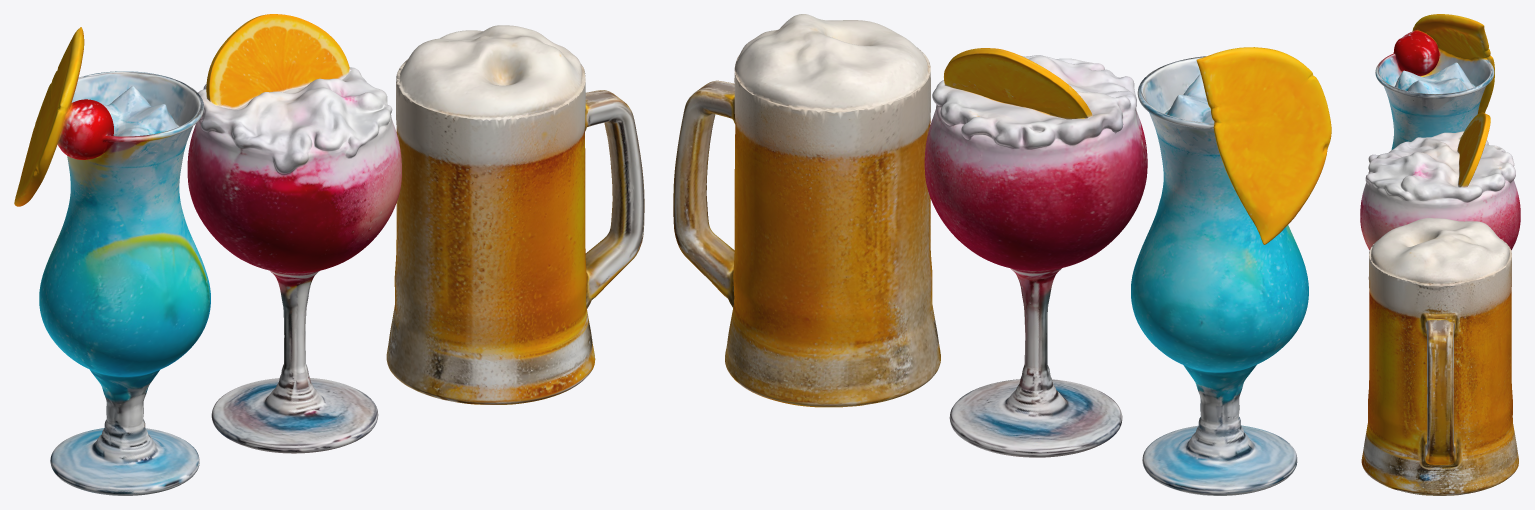
The model's file is menuAR-trio-bebidas-30x20x9cm-AR.glb.
3 views of the same model, side by side, from view 1: azimuth 30°, elevation 25°; view 2: azimuth 150°, elevation 25°; view 3: azimuth 270°, elevation 25° (orthographic). The views are drawn at different scales.
Parts seen in each view (by area): view 1: tripo_node_ba6dc7ec-f5b5-474f-94d5-36ab9a98e3fa; view 2: tripo_node_ba6dc7ec-f5b5-474f-94d5-36ab9a98e3fa; view 3: tripo_node_ba6dc7ec-f5b5-474f-94d5-36ab9a98e3fa.
Boxes of the visible parts, x1=… form: tripo_node_ba6dc7ec-f5b5-474f-94d5-36ab9a98e3fa: x1=14, y1=14, x2=644, y2=495; tripo_node_ba6dc7ec-f5b5-474f-94d5-36ab9a98e3fa: x1=673, y1=14, x2=1331, y2=495; tripo_node_ba6dc7ec-f5b5-474f-94d5-36ab9a98e3fa: x1=1360, y1=14, x2=1520, y2=495.
Size of the model in its own units: 0.3049 by 0.2 by 0.0931.
Materials: 1 (1 with a texture image).
